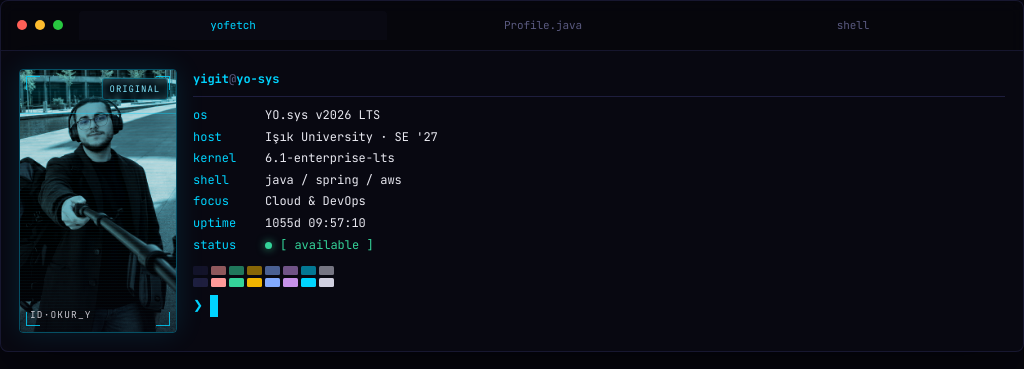
Test: SystemTerminal › refuses to run the class before it is compiled
Click the tab "shell" at (853, 25), box [699,11,1007,40]
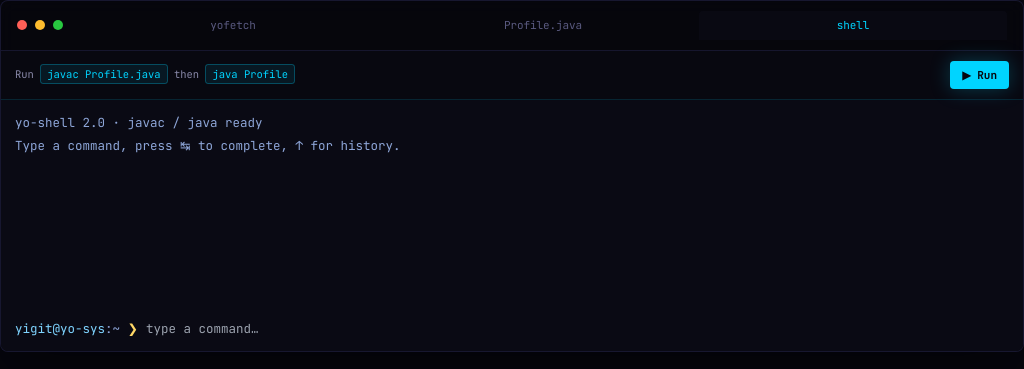
Type "java Profile" into the field named "Shell input" at (578, 329), box [146,320,1009,339]
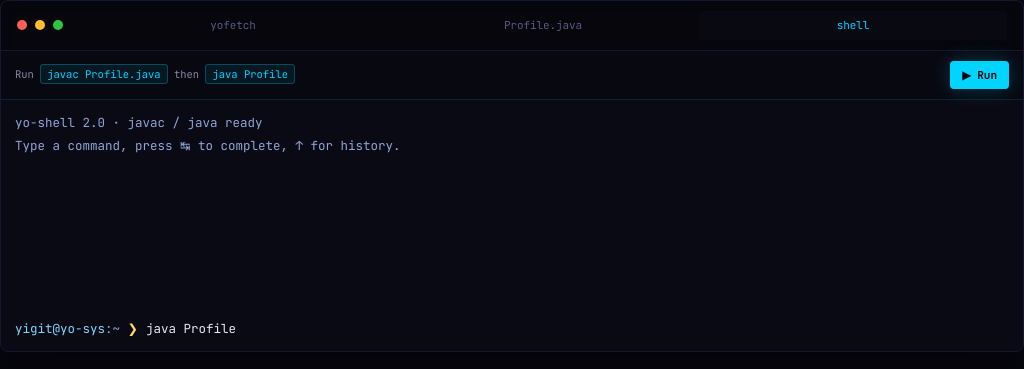
Press Enter in the field named "Shell input", box [146,320,1009,339]
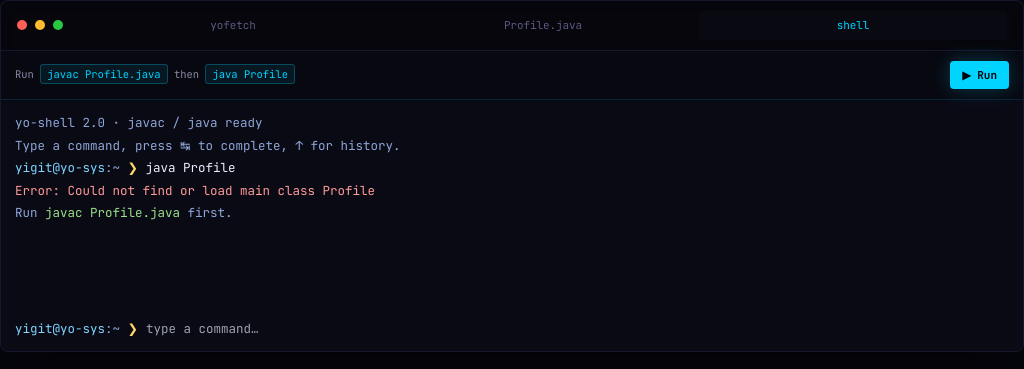
Expected: the text "Error: Could not find or load main class Profile" is shown, [15,182,375,198]
